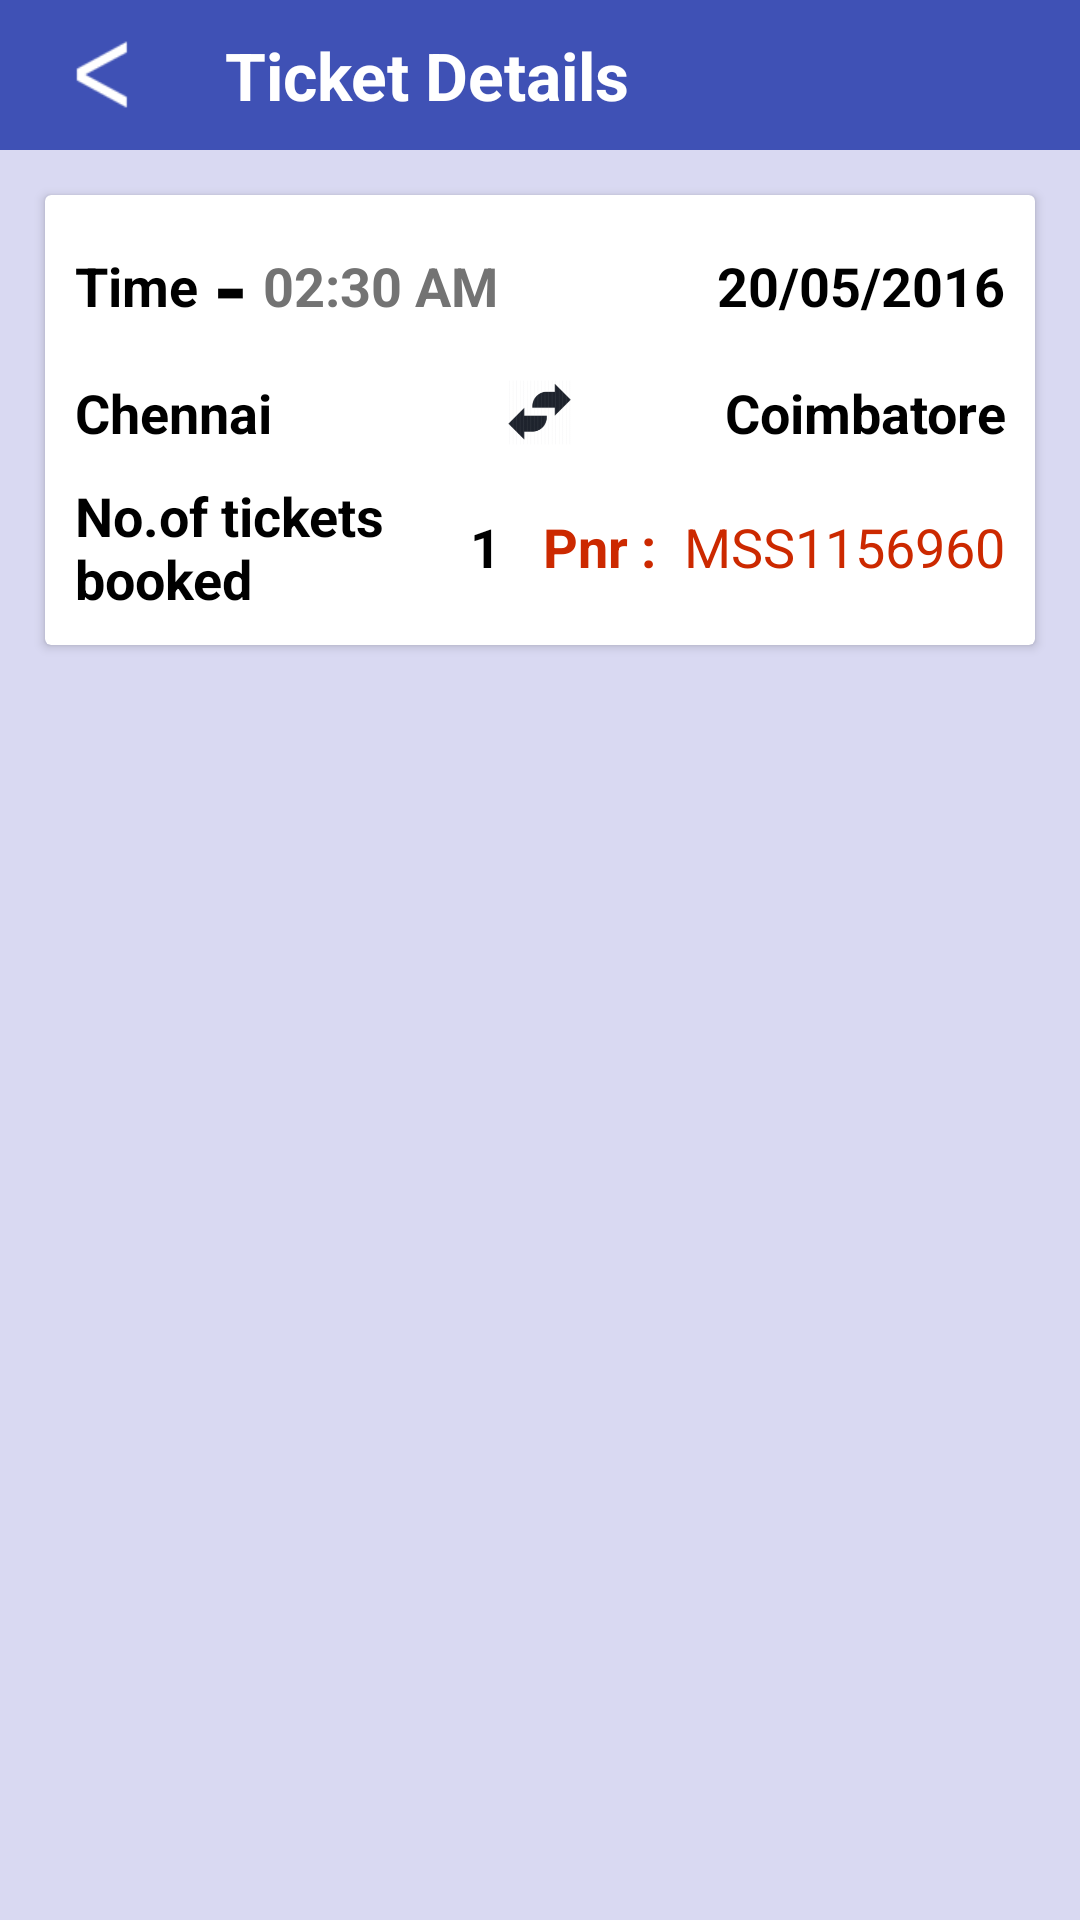

Named icons in this screenshot (1080×1920) and their bounding boxes, (x1, y1, x2, y2):
back: (76, 41, 127, 108)
reverse: (508, 384, 571, 440)
